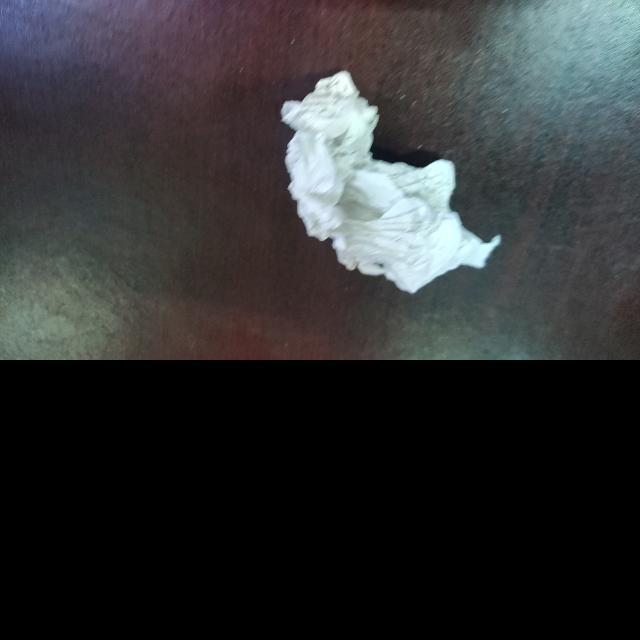kitchen paper: (278, 65, 508, 300)
